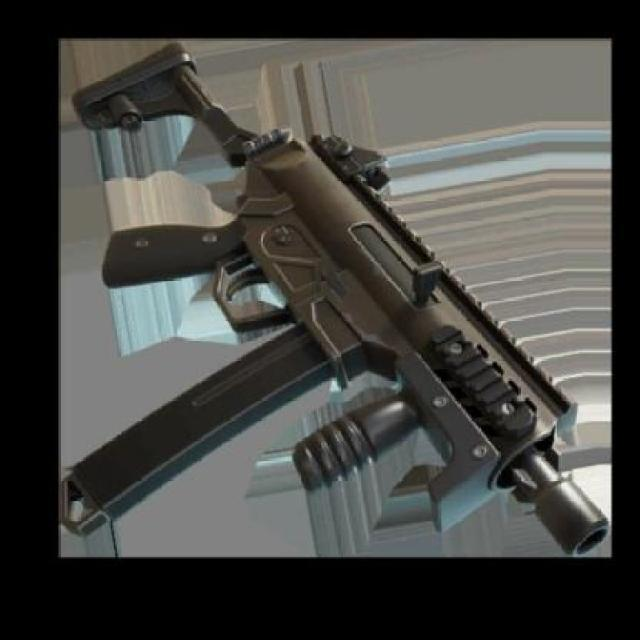weapon: (62, 40, 608, 556)
